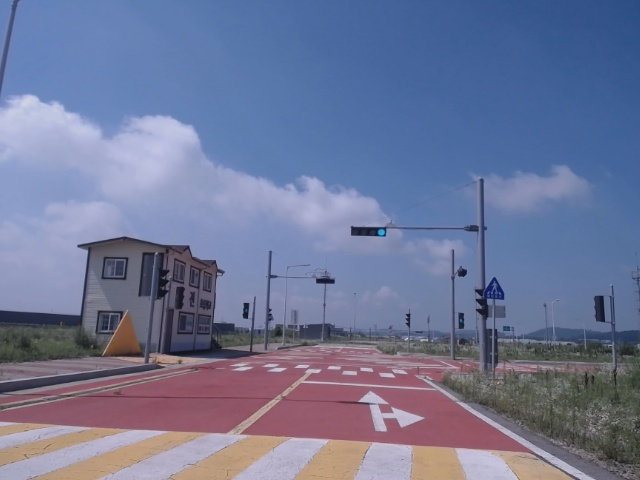straight_green_4: (352, 228, 385, 236)
